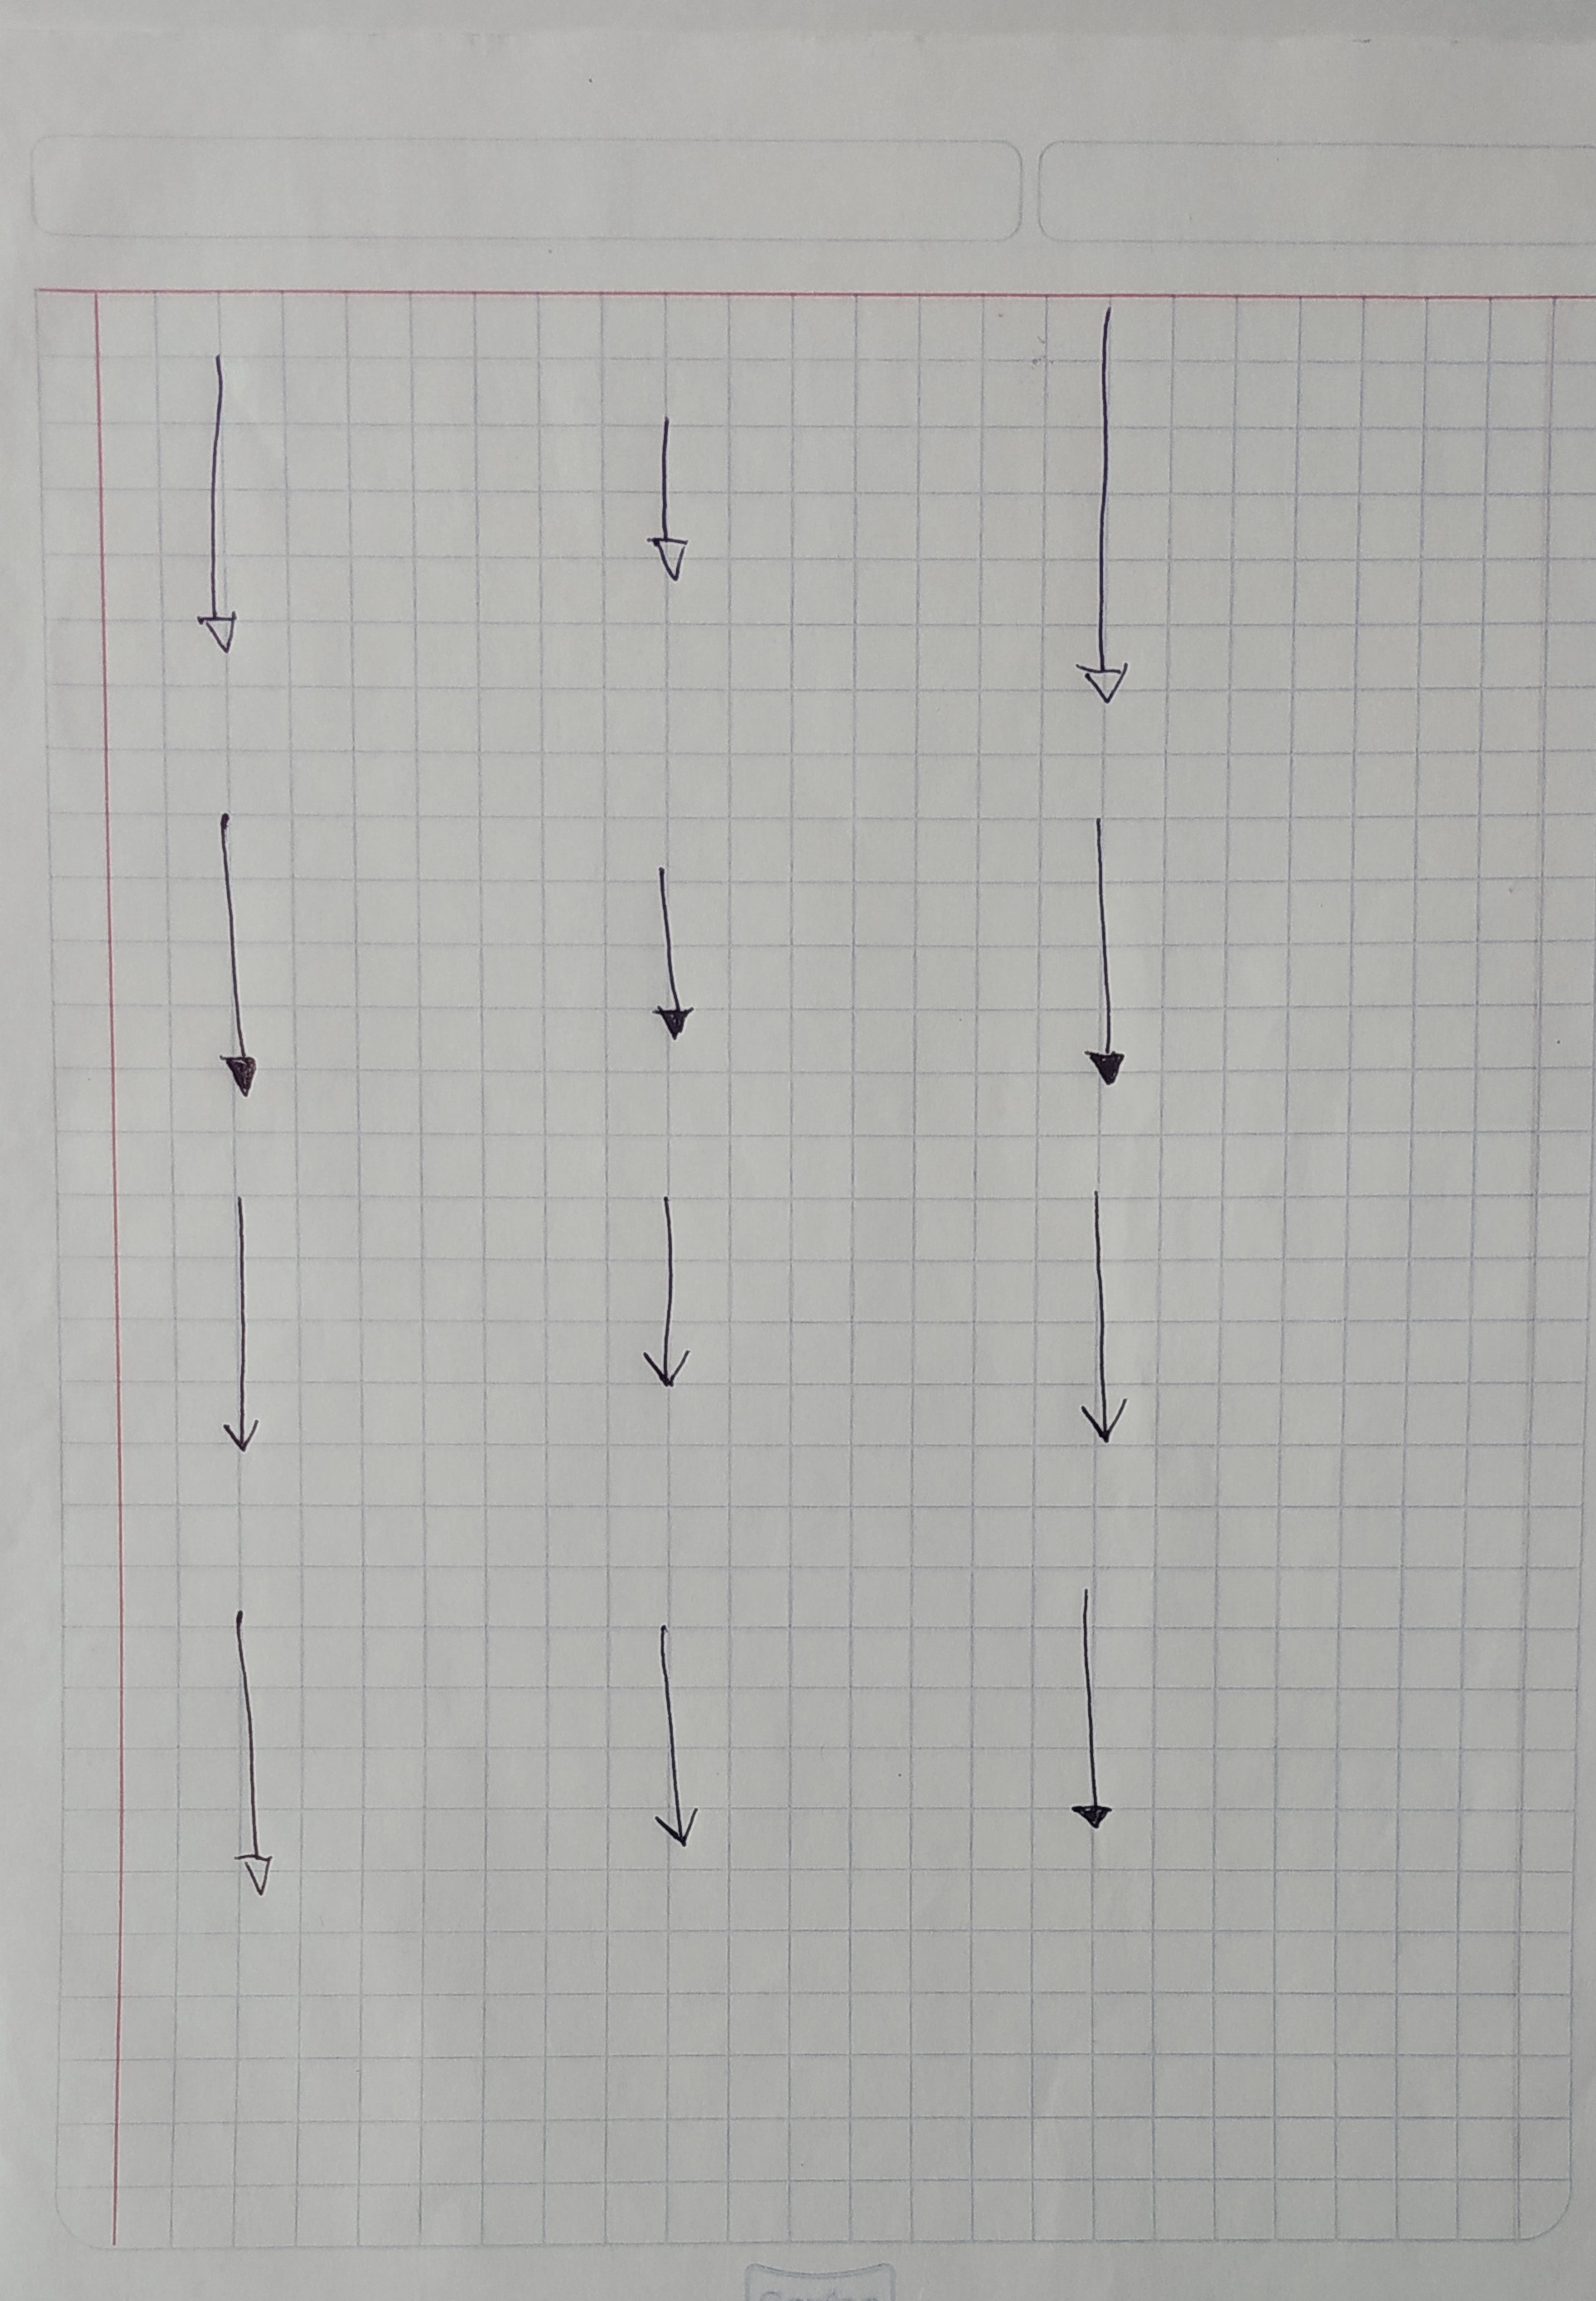arrow_line_down: (1073, 306, 1138, 708), (198, 804, 273, 1105), (187, 346, 250, 663), (217, 1596, 280, 1895), (1068, 801, 1133, 1091), (631, 1617, 708, 1853), (1070, 1177, 1135, 1455), (213, 1185, 271, 1460), (1059, 1577, 1115, 1838), (631, 1182, 699, 1390), (633, 850, 701, 1053), (638, 411, 703, 594)
